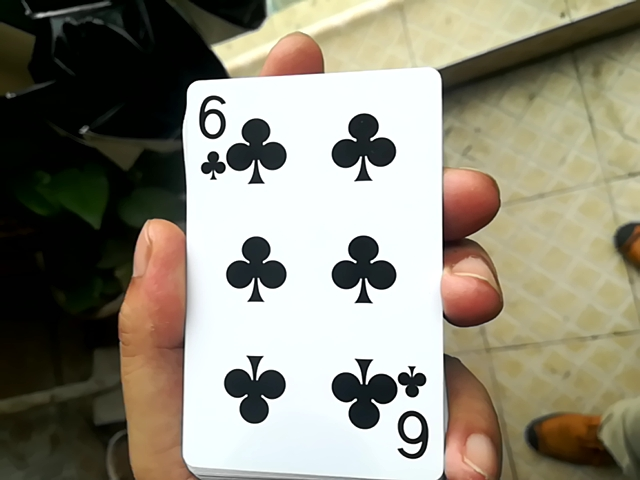mh 6: (170, 63, 455, 479)
